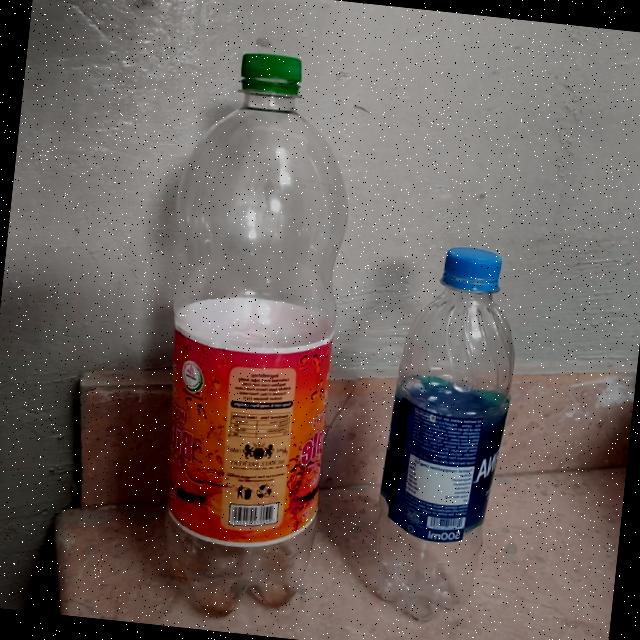bottle: (131, 43, 366, 628), (360, 234, 524, 625)
cap: (437, 246, 506, 298), (237, 52, 304, 100)
label: (156, 317, 332, 551), (377, 395, 507, 539)
